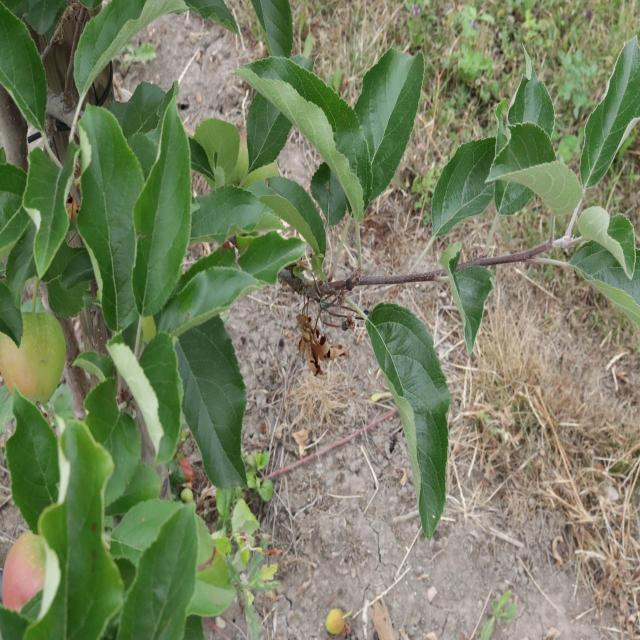-FireBlight-: (298, 316, 350, 376)
